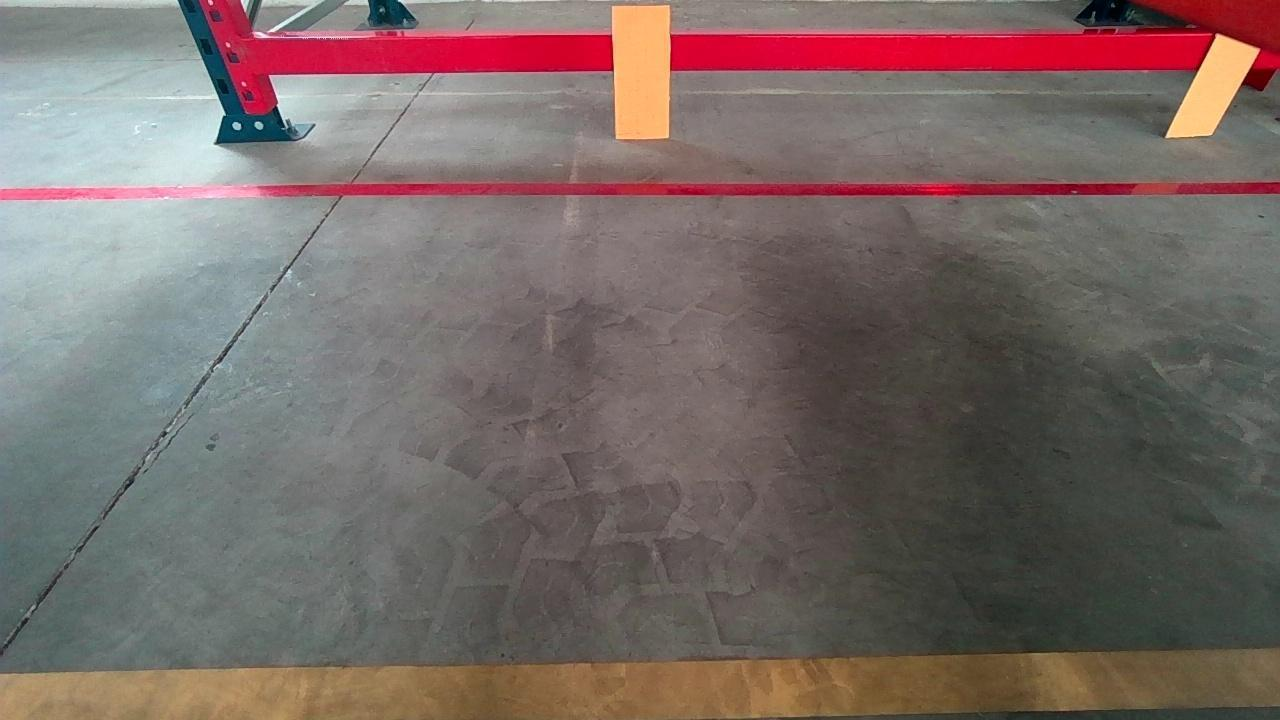h_rack: (251, 20, 1192, 78)
orange_strip: (1167, 35, 1262, 135), (612, 5, 673, 139)
red_line: (17, 176, 1272, 204)
yellow_line: (0, 644, 1274, 720)
